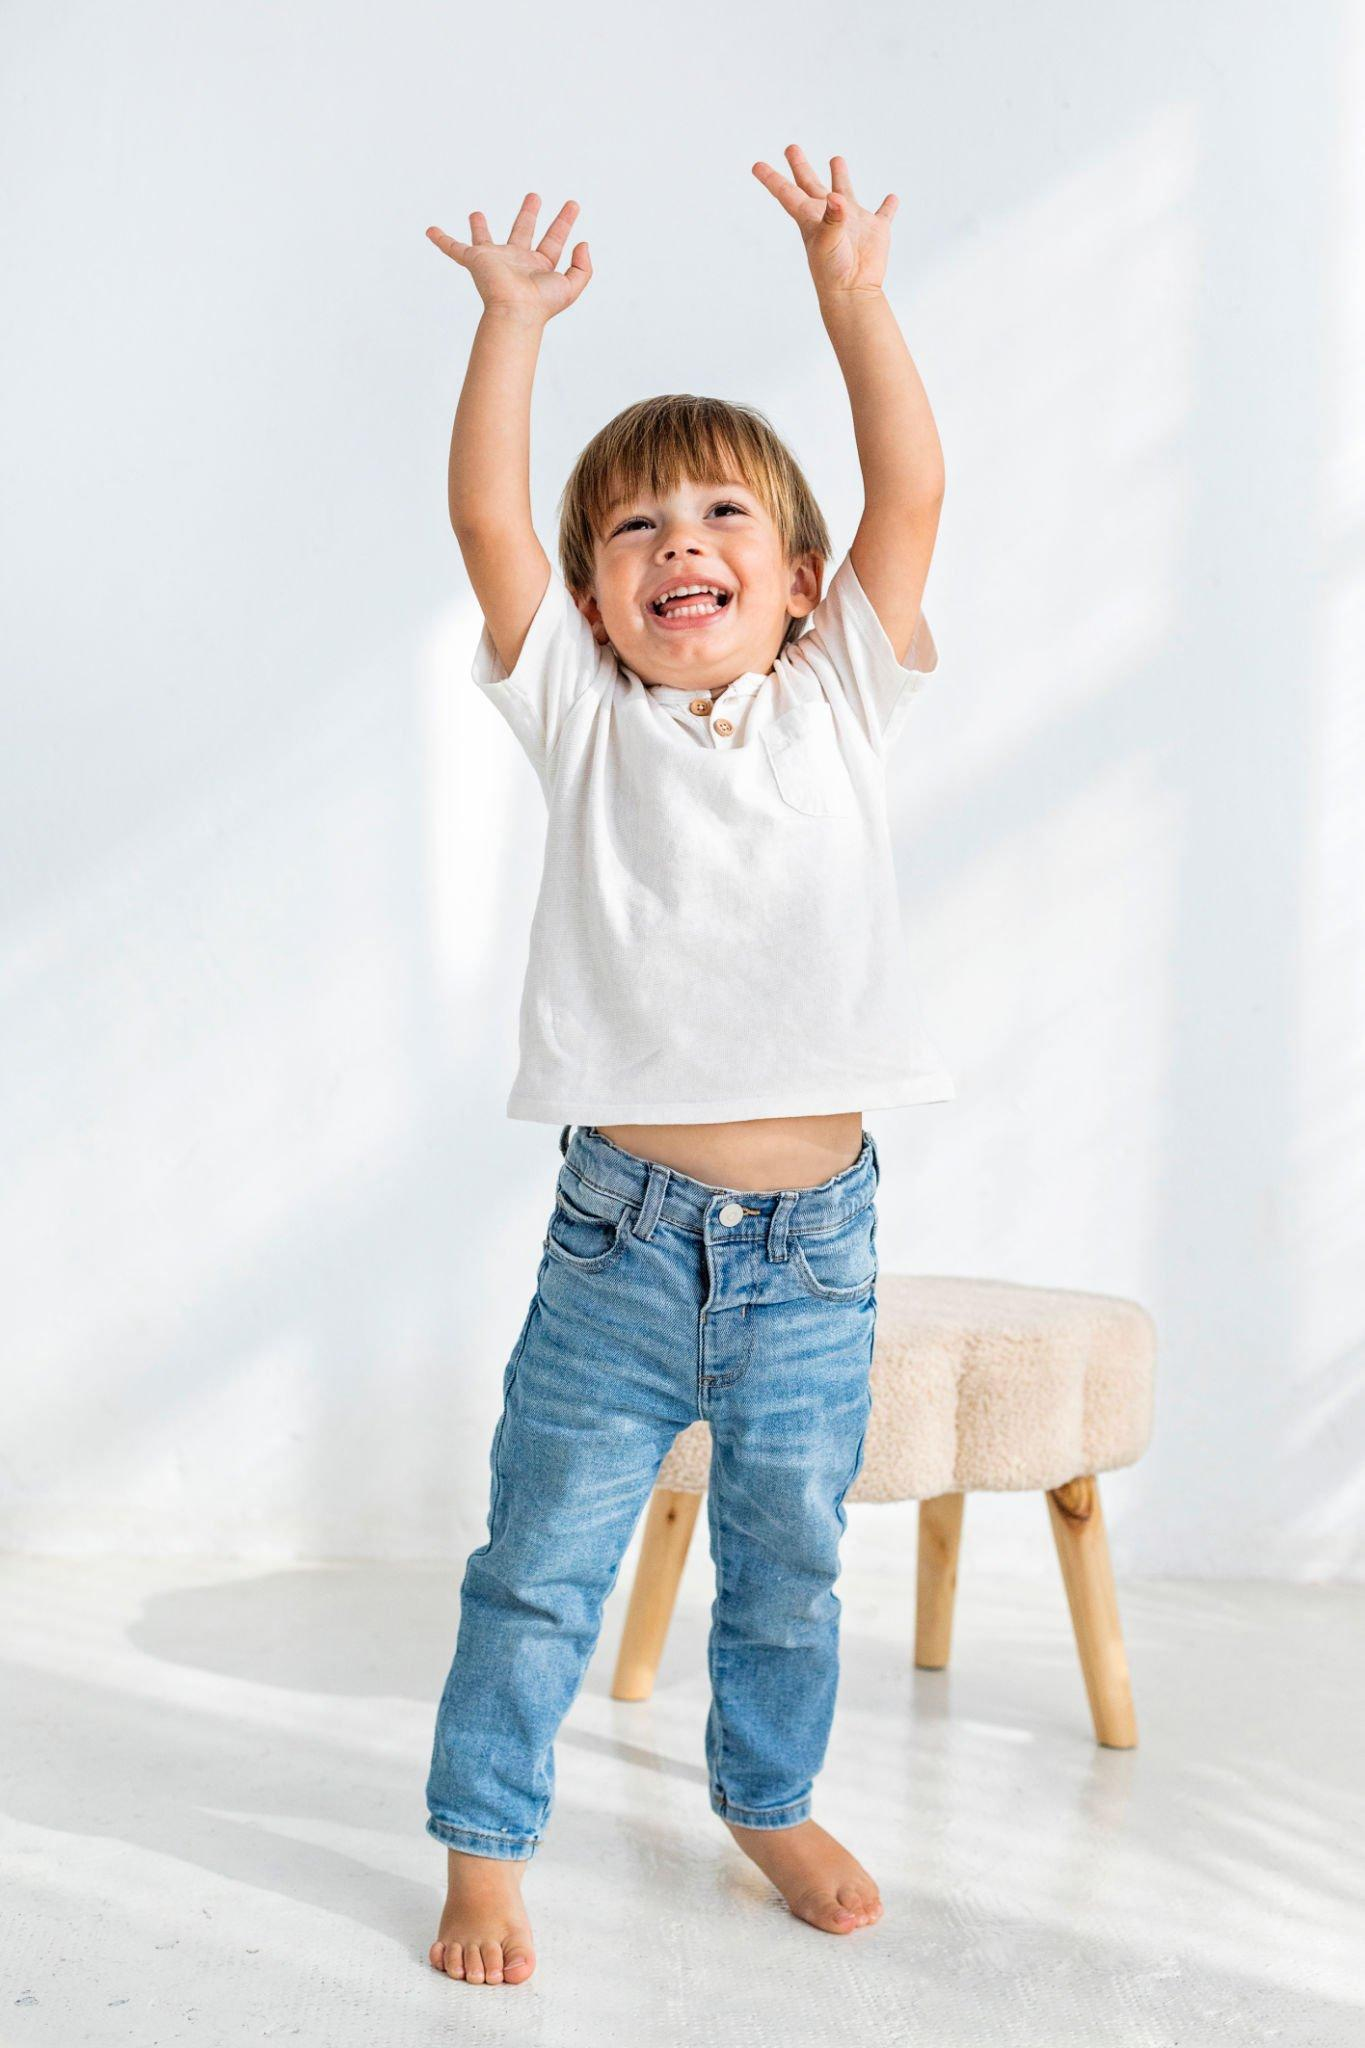Healthy: (562, 422, 823, 688)
